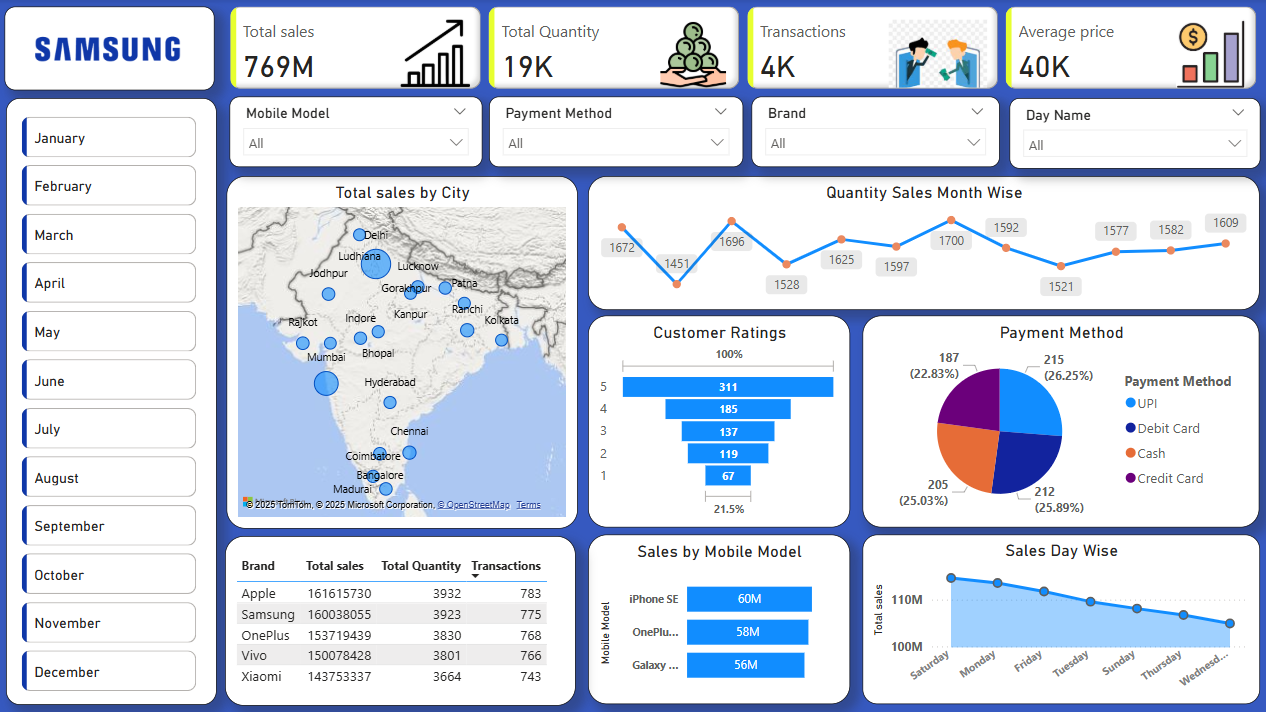

The page's visual inventory and layout, read from the dashboard file:
{"tool":"powerbi","page":{"name":"Page 1","canvas":[1280,720],"ordinal":0},"visuals":[{"type":"shape","box":[4.5,7.6,212,84.8],"z":0},{"type":"cardVisual","fields":{"Data":["Sales Data.Total sales","Sales Data.Total Quantity","Sales Data.Transactions","Sales Data.Average price"]},"box":[227.1,7.6,1044.8,83.2],"z":0,"group":"g2"},{"type":"image","box":[0,7.2,217.2,83.4],"z":1000},{"type":"group","id":"g1","title":"Group 1","box":[227.1,179,1045.3,534.2],"z":1000,"group":"g2"},{"type":"slicer","fields":{"Values":["Sales Data.Mobile Model"]},"box":[231.7,98.4,255.1,71.1],"z":2000,"group":"g2"},{"type":"shape","box":[5.8,99.2,212.8,612.6],"z":2000},{"type":"slicer","fields":{"Values":["Sales Data.Payment Method"]},"box":[492.9,98.4,256.6,71.1],"z":3000,"group":"g2"},{"type":"advancedSlicerVisual","fields":{"Values":["Sasles Data.Date.Variation.Date Hierarchy.Month"]},"box":[17.3,113.6,187,591.1],"z":3000},{"type":"group","id":"g2","title":"Group 3","box":[227.1,7.6,1045.3,705.6],"z":4000},{"type":"slicer","fields":{"Values":["Sales Data.Brand"]},"box":[758.6,98.4,250.6,71.1],"z":4000,"group":"g2"},{"type":"group","id":"g3","title":"Group 4","box":[593.6,179,678.8,533.5],"z":4001,"group":"g4"},{"type":"slicer","fields":{"Values":["Sales Data.Day Name.1"]},"box":[1018.3,99.9,253.6,71.1],"z":5000,"group":"g2"},{"type":"map","fields":{"Category":["Sales Data.City"],"Size":["Sales Data.Total sales"]},"box":[227.9,179,354.7,355.9],"z":5000,"group":"g4"},{"type":"lineChart","title":"Quantity Sales Month Wise","fields":{"Category":["Sales Data.Date.Variation.Date Hierarchy.Month","Sales Data.Date.Variation.Date Hierarchy.Day"],"Y":["Sales Data.Total Quantity"]},"box":[593.6,179,677.9,135.4],"z":6000,"group":"g3"},{"type":"clusteredBarChart","title":"Sales by Mobile Model","fields":{"Category":["Sales Data.Mobile Model"],"Y":["Sales Data.Total sales"]},"box":[593.8,541.2,264.5,171.3],"z":7000,"group":"g3"},{"type":"pieChart","title":"Payment Method","fields":{"Y":["CountNonNull(Sales Data.Payment Method)"],"Category":["Sales Data.Payment Method"]},"box":[870.7,320.6,400.9,214.3],"z":8000,"group":"g3"},{"type":"funnel","title":"Customer Ratings","fields":{"Category":["Sales Data.Customer Ratings"],"Y":["CountNonNull(Sales Data.Customer Ratings)"]},"box":[593.8,320.6,264.7,214.3],"z":9000,"group":"g3"},{"type":"areaChart","title":"Sales Day Wise","fields":{"Category":["Sales Data.Day Name.1"],"Y":["Sales Data.Total sales"]},"box":[871.3,541.2,401.1,171.3],"z":10000,"group":"g3"},{"type":"tableEx","fields":{"Values":["Sales Data.Brand","Sales Data.Total sales","Sales Data.Total Quantity","Sales Data.Transactions"]},"box":[227.1,542.1,354.1,171.1],"z":11000,"group":"g4"},{"type":"group","id":"g4","title":"Group 2","box":[227.1,179,1045.3,534.2],"z":12002,"group":"g1"}]}

Visuals, with their boxes in screenshot pixels (x1, y1, x2, y2), scaled from the page's 1280x720 canvas onto the 1266x712 screenshot:
shape: crop(4, 8, 214, 91)
cardVisual - Sales Data.Total sales x Sales Data.Total Quantity: crop(225, 8, 1258, 90)
image: crop(0, 7, 215, 90)
"Group 1" group: crop(225, 177, 1258, 705)
slicer - Sales Data.Mobile Model: crop(229, 97, 481, 168)
shape: crop(6, 98, 216, 704)
slicer - Sales Data.Payment Method: crop(488, 97, 741, 168)
advancedSlicerVisual - Sasles Data.Date.Variation.Date Hierarchy.Month: crop(17, 112, 202, 697)
"Group 3" group: crop(225, 8, 1258, 705)
slicer - Sales Data.Brand: crop(750, 97, 998, 168)
"Group 4" group: crop(587, 177, 1258, 705)
slicer - Sales Data.Day Name.1: crop(1007, 99, 1258, 169)
map - Sales Data.City x Sales Data.Total sales: crop(225, 177, 576, 529)
"Quantity Sales Month Wise" lineChart: crop(587, 177, 1258, 311)
"Sales by Mobile Model" clusteredBarChart: crop(587, 535, 849, 705)
"Payment Method" pieChart: crop(861, 317, 1258, 529)
"Customer Ratings" funnel: crop(587, 317, 849, 529)
"Sales Day Wise" areaChart: crop(862, 535, 1258, 705)
tableEx - Sales Data.Brand x Sales Data.Total sales: crop(225, 536, 575, 705)
"Group 2" group: crop(225, 177, 1258, 705)
